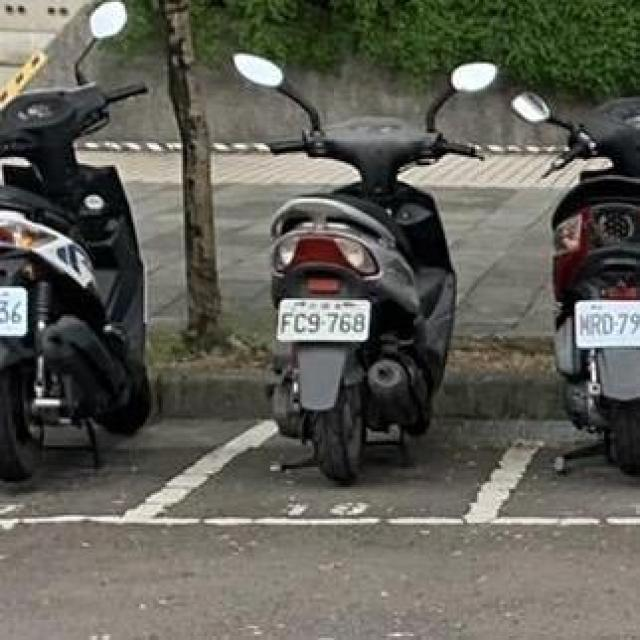W: (268, 292, 376, 348), (568, 292, 640, 354), (0, 280, 34, 342)
